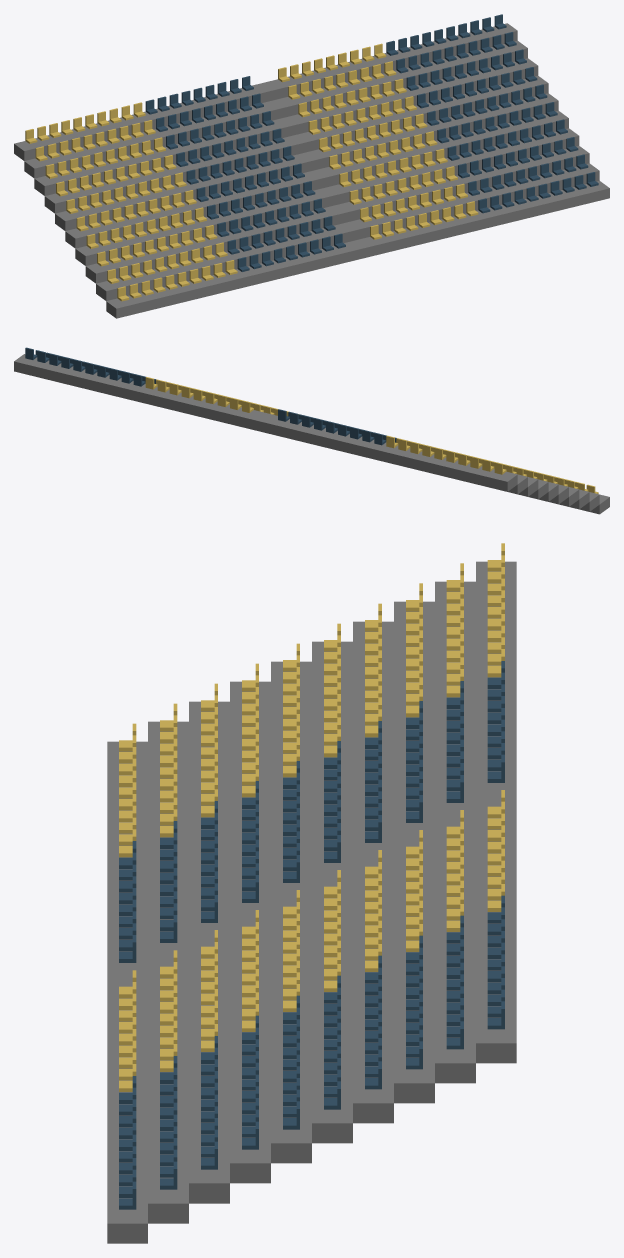
Rendered from tribuna-tinypoly.glb.
3 views of the same model, one above another, from view 1: azimuth 30°, elevation 25°; view 2: azimuth 150°, elevation 25°; view 3: azimuth 270°, elevation 25° (orthographic). The views are drawn at different scales.
Parts seen in each view (by area): view 1: object (×2), 1, 4, 8, 3, 7, 6, 5, 2, 9, 10; view 2: 10, object (×2); view 3: object (×2), 1, 2, 3, 4, 5, 6, 7, 8, 9, 10.
Part boxes in pixels (<box>): object (×2): <box>25,14,598,301</box>; 1: <box>106,181,609,318</box>; 4: <box>75,128,579,265</box>; 8: <box>34,58,538,195</box>; 3: <box>85,146,589,283</box>; 7: <box>44,76,548,213</box>; 6: <box>55,93,558,230</box>; 5: <box>65,110,568,248</box>; 2: <box>96,163,599,300</box>; 9: <box>24,40,527,178</box>; 10: <box>14,23,517,160</box>; 10: <box>14,354,517,491</box>; object (×2): <box>25,347,598,493</box>; object (×2): <box>119,543,504,1209</box>; 1: <box>107,741,147,1243</box>; 2: <box>148,721,188,1223</box>; 3: <box>189,701,229,1203</box>; 4: <box>230,681,270,1183</box>; 5: <box>271,661,311,1163</box>; 6: <box>312,641,352,1143</box>; 7: <box>353,621,393,1123</box>; 8: <box>394,601,434,1103</box>; 9: <box>435,581,475,1083</box>; 10: <box>476,561,516,1063</box>.
Bounding box in the file's own units: 32 × 7.01 × 11.5.
